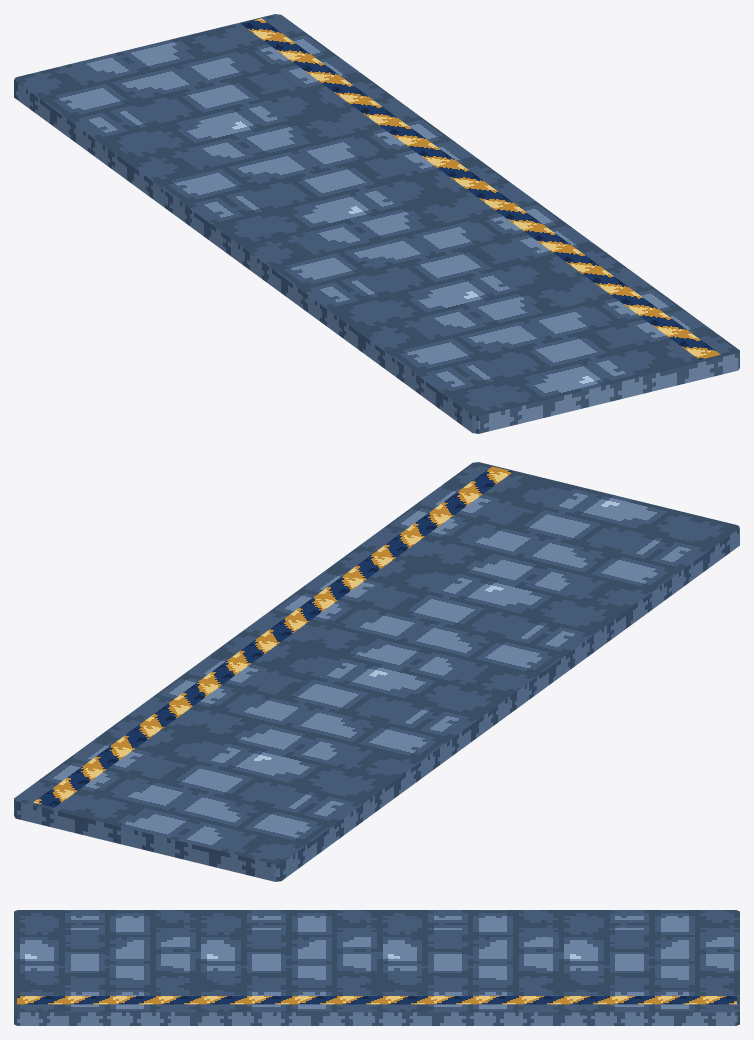
File: cyroom.platform.glb
3 renders of one model, top to bottom at view 1: azimuth 30°, elevation 25°; view 2: azimuth 150°, elevation 25°; view 3: azimuth 270°, elevation 25°, orthographic. The views are drawn at different scales.
Visible parts, largest first — view 1: kit_platform, kit_card_coping; view 2: kit_platform, kit_card_coping; view 3: kit_platform, kit_card_coping.
Boxes of the visible parts, x1,y1,x2,y2 form: kit_platform: (14,14,739,433); kit_card_coping: (240,18,720,359); kit_platform: (14,462,739,881); kit_card_coping: (33,466,513,807); kit_platform: (14,910,739,1025); kit_card_coping: (17,996,736,1004).
Bounding box in the file's own units: 4 × 0.262 × 12.
4 materials, 4 textured.
